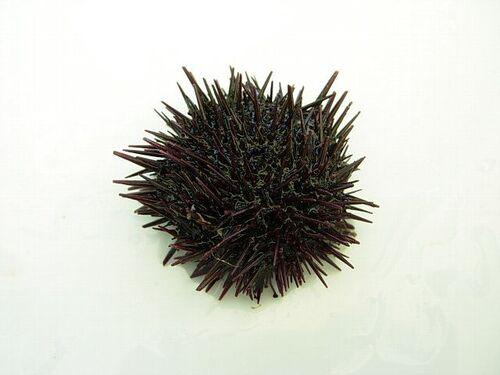urchin: (110, 67, 388, 306)
